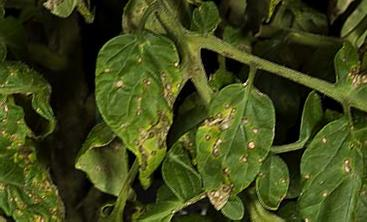Tomato Septoria leaf spot: (87, 31, 178, 195), (188, 84, 281, 211), (294, 105, 367, 222), (0, 92, 27, 169), (113, 195, 188, 222), (36, 0, 89, 24)
